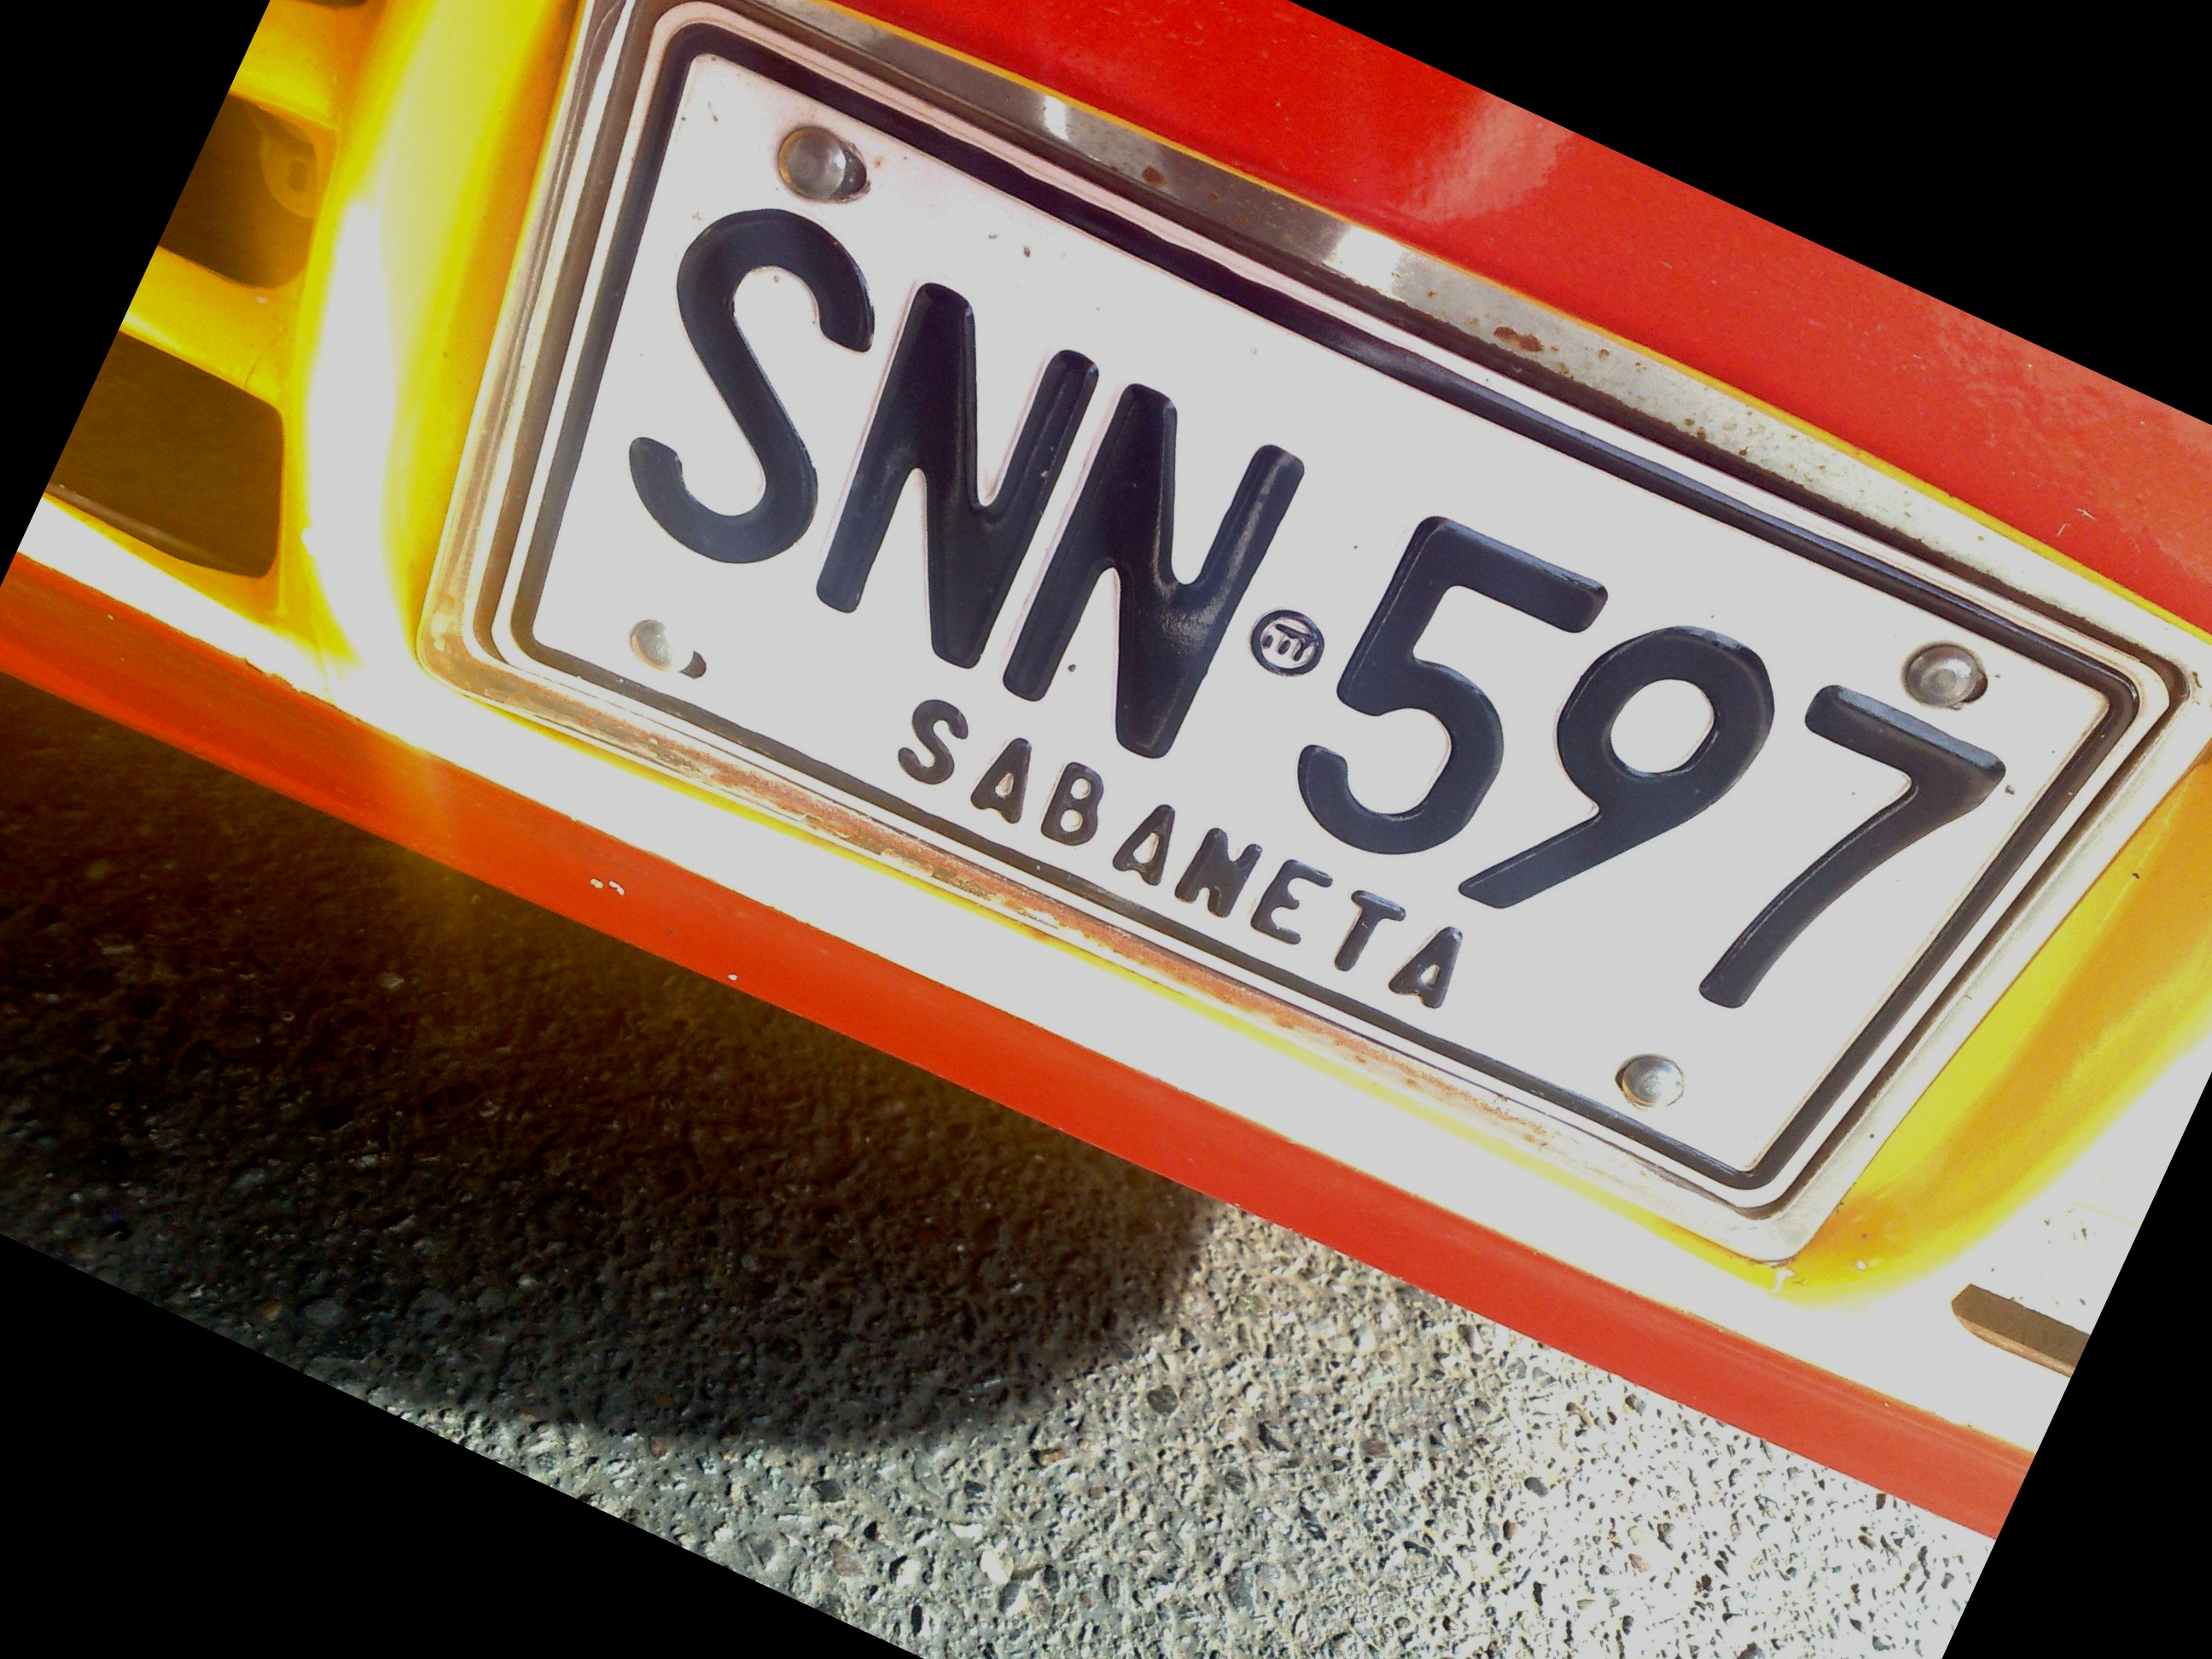placas: (357, 0, 2183, 1321)
